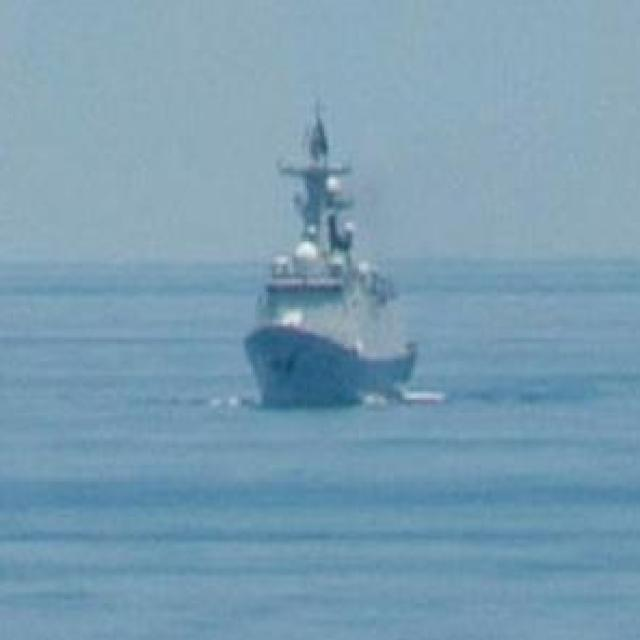navalvessels: (233, 109, 427, 401)
